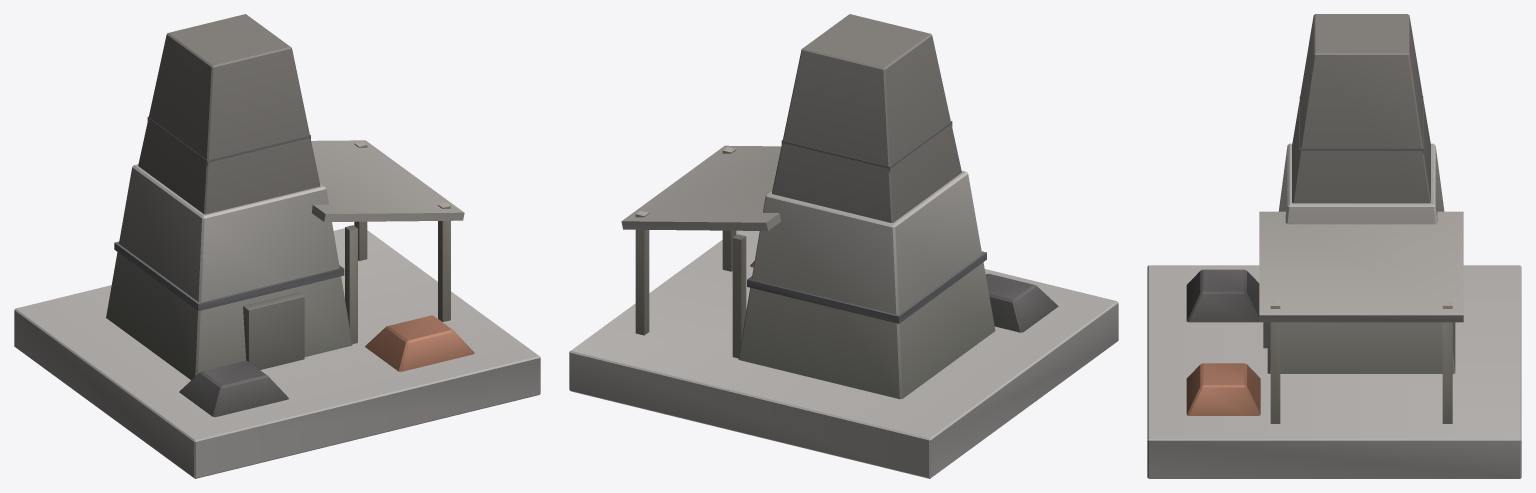
The model's file is smelter_l1_lod2.glb.
The picture shows the model from 3 angles, left to right: view 1: azimuth 30°, elevation 25°; view 2: azimuth 150°, elevation 25°; view 3: azimuth 270°, elevation 25°; orthographic projection. The views are drawn at different scales.
Parts seen in each view (by area): view 1: smelter_l1_lod2; view 2: smelter_l1_lod2; view 3: smelter_l1_lod2.
Boxes of the visible parts, box(x1,y1,x2,y2) form: smelter_l1_lod2: box(14, 14, 540, 478); smelter_l1_lod2: box(569, 14, 1118, 478); smelter_l1_lod2: box(1147, 14, 1521, 478).
Bounding box in the file's own units: 8.4 × 7.65 × 7.6.
